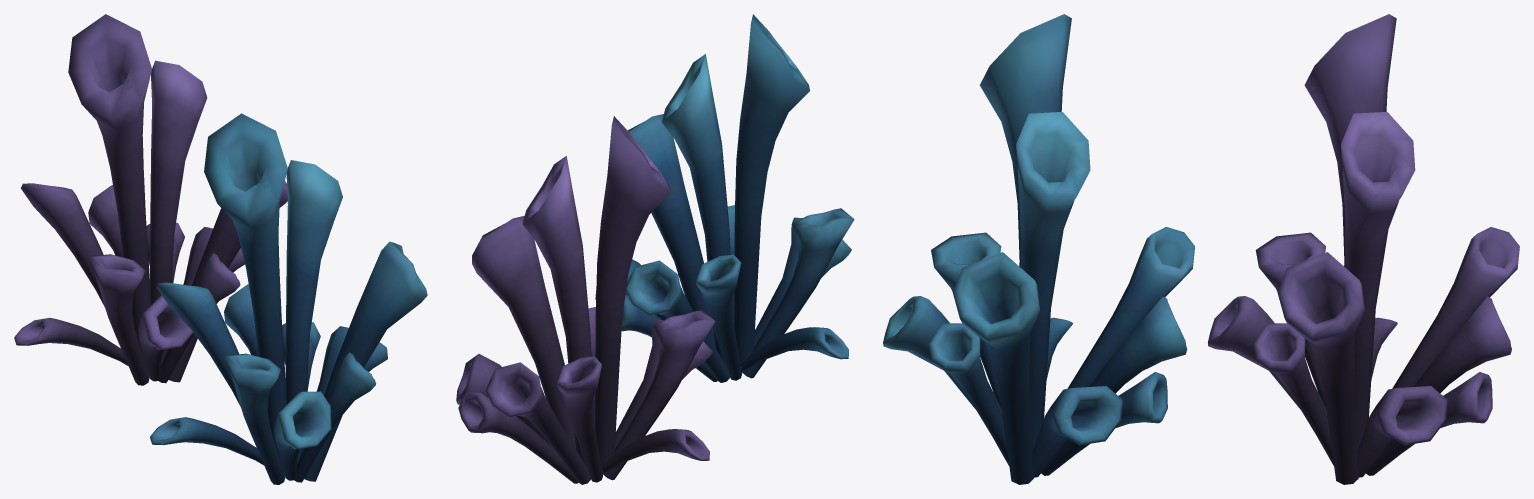
Rendered from plant_26.fbx.
3 renders of one model, left to right at view 1: azimuth 30°, elevation 25°; view 2: azimuth 150°, elevation 25°; view 3: azimuth 270°, elevation 25°, orthographic. The views are drawn at different scales.
Visible parts, largest first — view 1: polySurface12, polySurface13; view 2: polySurface13, polySurface12; view 3: polySurface13, polySurface12.
Part boxes in pixels (x1,y1,x2,y2): polySurface12: (150,113,427,484); polySurface13: (14,14,287,385); polySurface13: (456,116,715,484); polySurface12: (595,14,854,382); polySurface13: (1208,14,1519,484); polySurface12: (883,14,1194,484).
Bounding box in the file's own units: 2.47 × 3.49 × 4.6.
